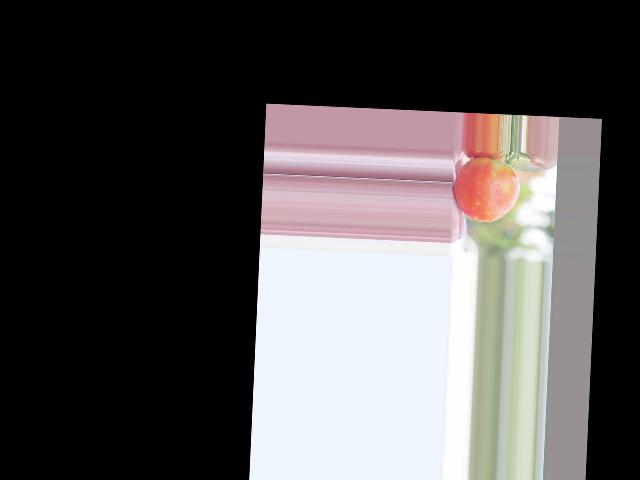tomato: (452, 156, 520, 223)
